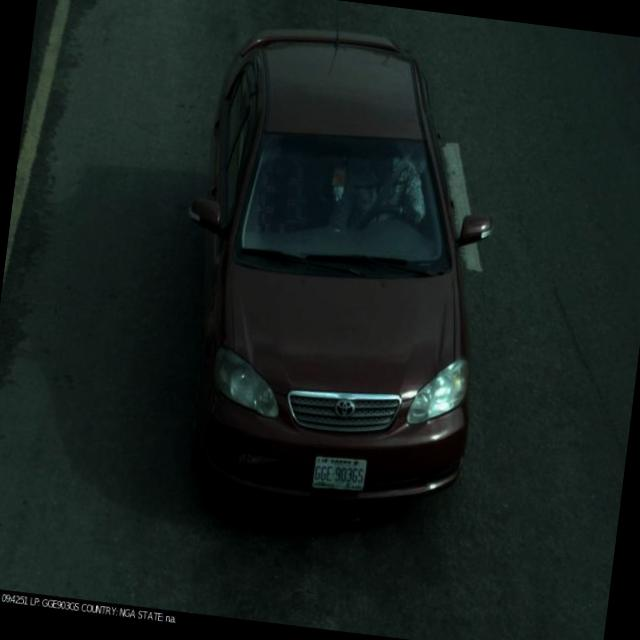person_with_seatbelt: (324, 130, 434, 268)
